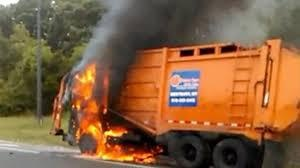fire: (58, 62, 143, 159)
